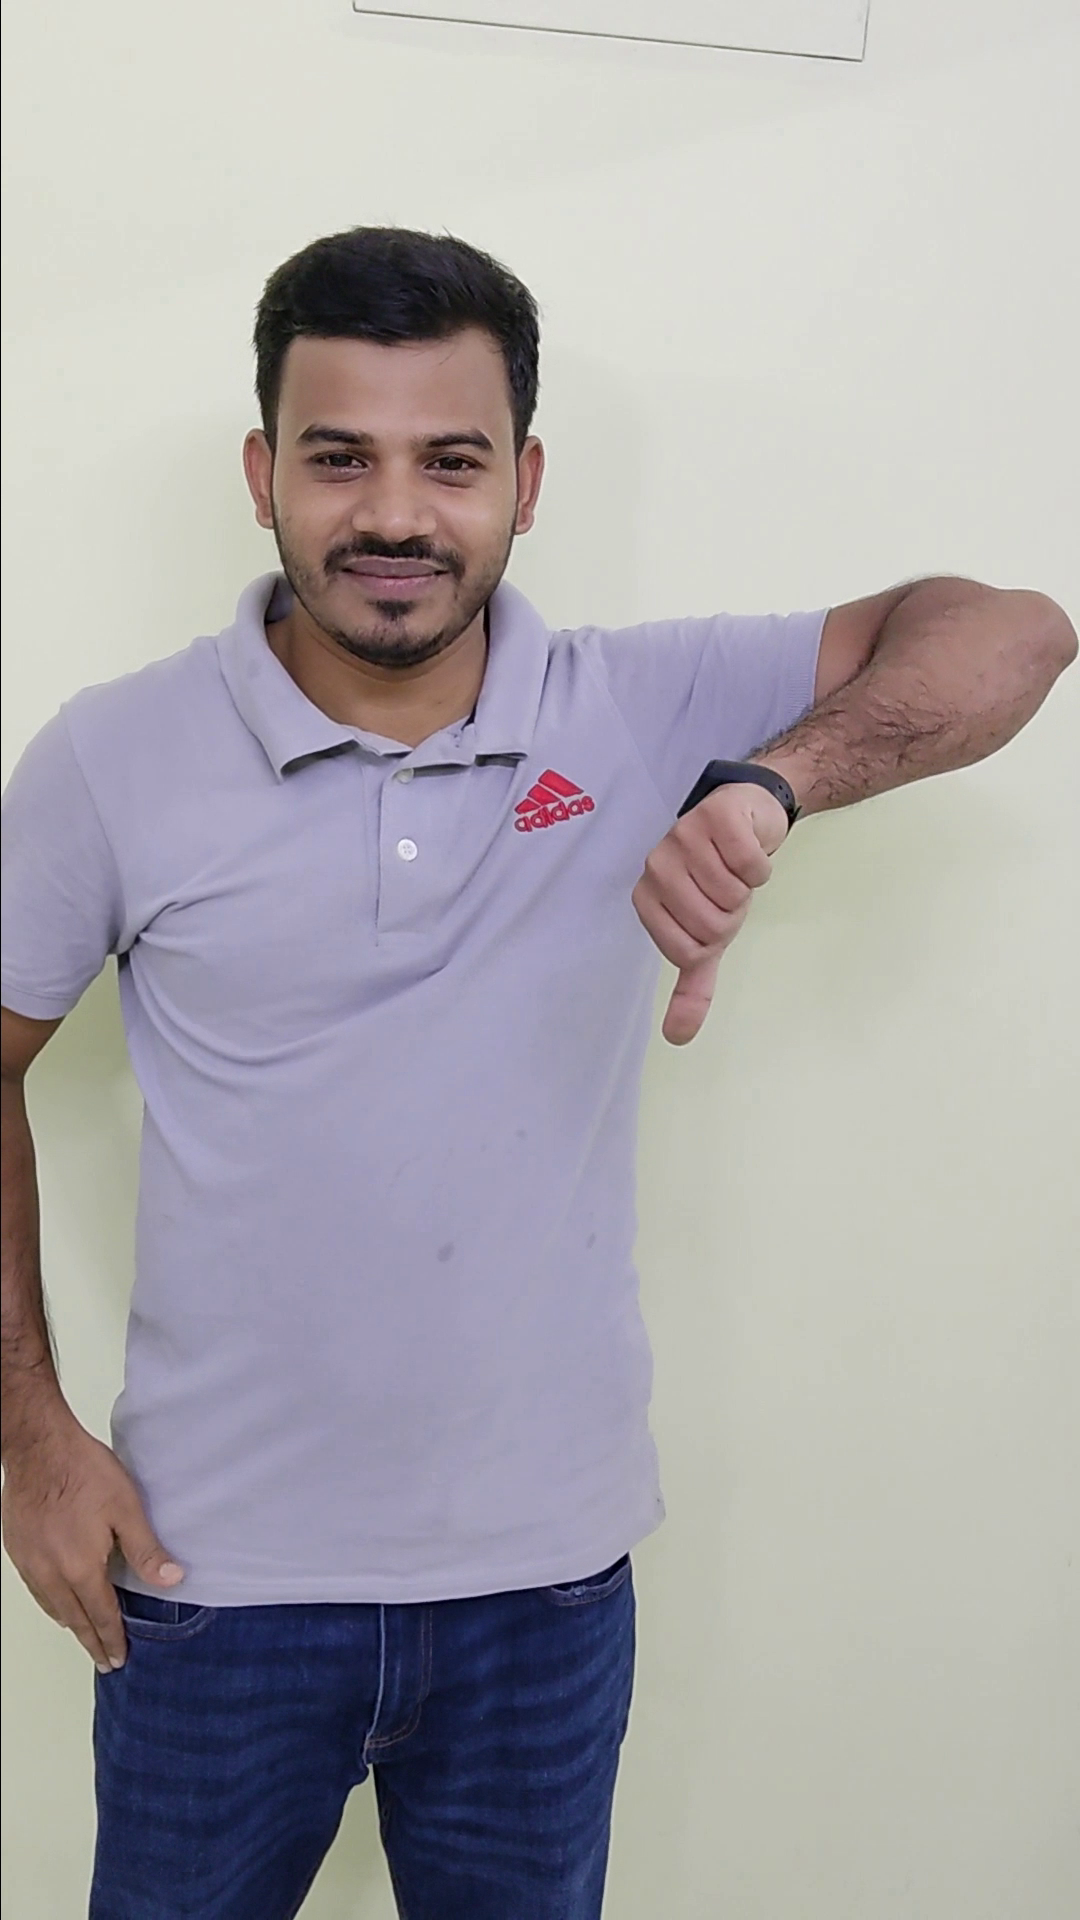Dislike: (588, 744, 843, 1071)
None: (3, 1387, 193, 1677)
